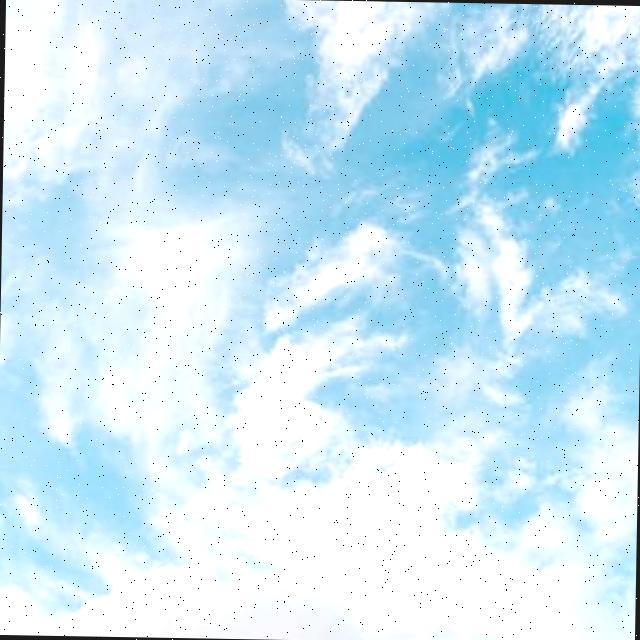Ci: (1, 15, 640, 585)
